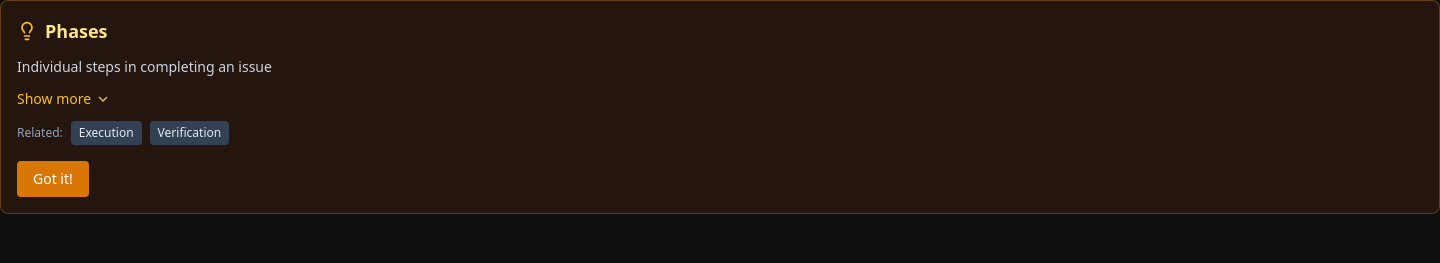
Test case: ConceptCard › Expand/Collapse Functionality › should collapse when "Show less" is clicked
Click the button "Show more".
click(64, 99)  # box [17, 89, 111, 109]
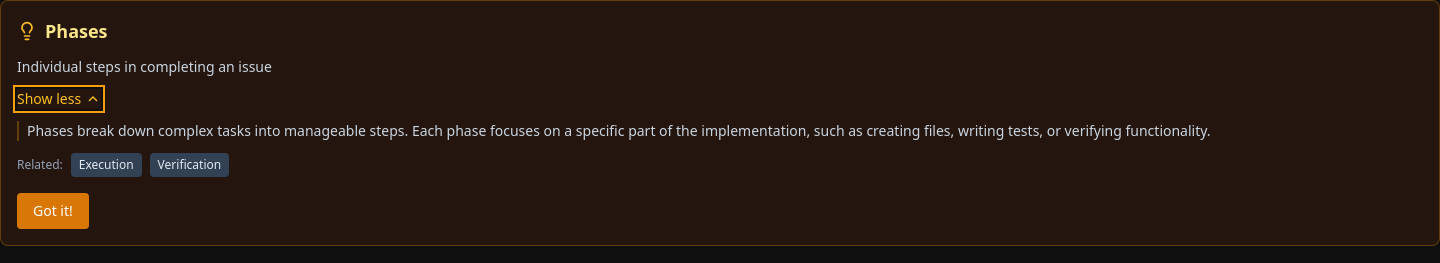
Click the button "Show less".
click(59, 99)  # box [17, 89, 101, 109]
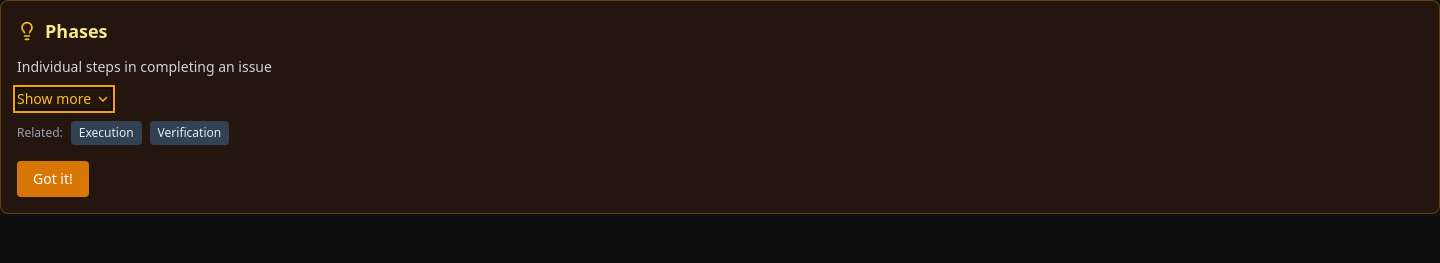
Check: the text "Phases break down complex tasks into manageable steps" is gone
Check: the button "Show more" is shown, box [17, 89, 111, 109]
